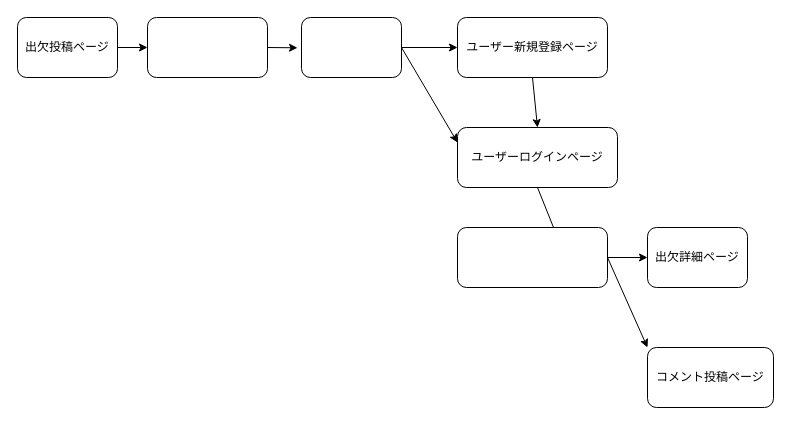
This 791x425 diagram has some shape labels left out. The box of each missing label's shape, as (x1, y1, x2, y2) in pixels:
ユーザーマイページ: (456, 226, 608, 288)
一覧ページ: (300, 16, 402, 78)
投降後の確認ページ: (146, 16, 268, 78)
